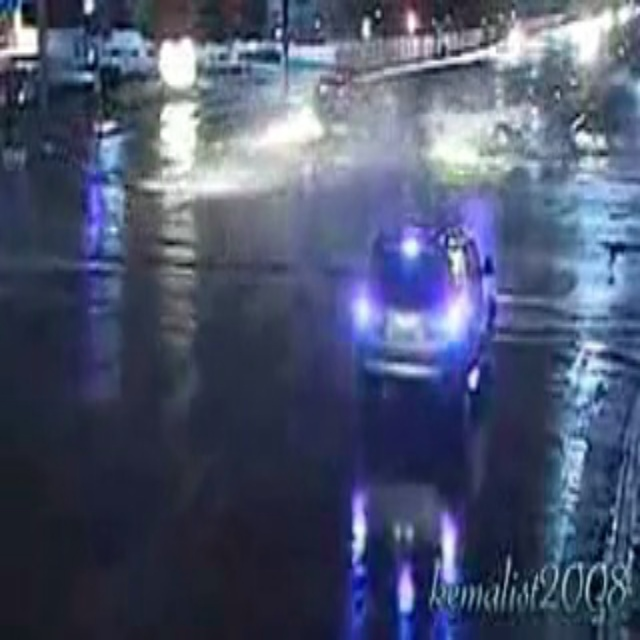acc: (414, 77, 620, 175)
